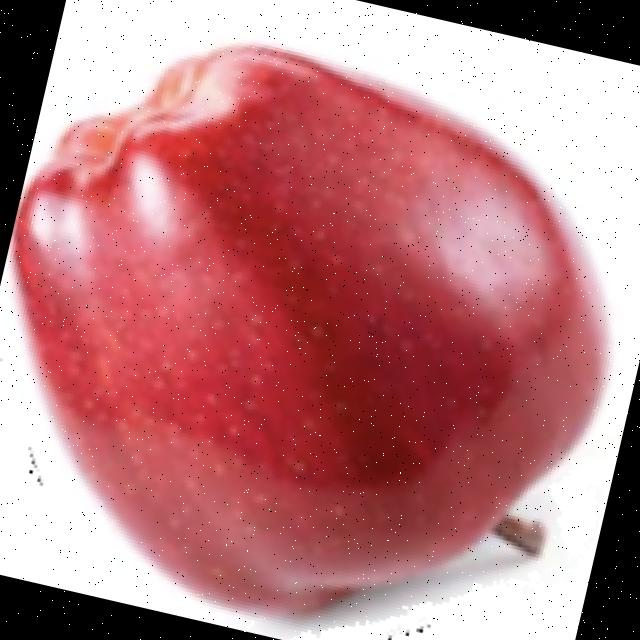apple: (2, 34, 618, 640)
